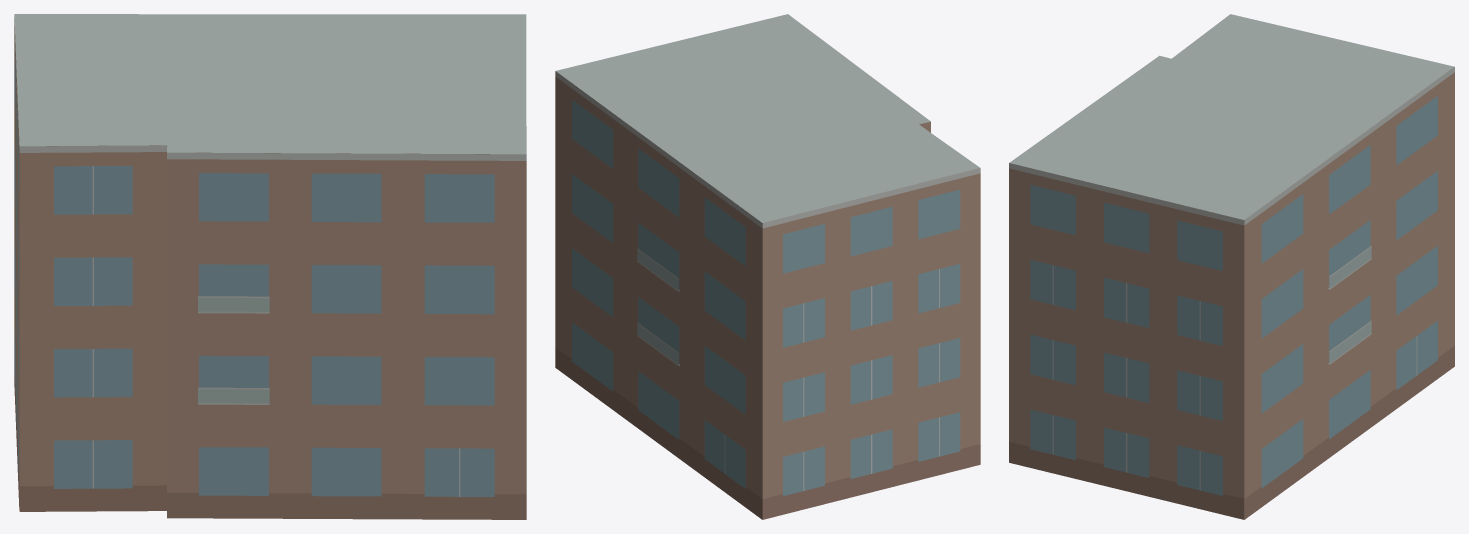
The model's file is survey-upis-32709497.glb.
3 views of the same model, side by side, from view 1: azimuth 30°, elevation 25°; view 2: azimuth 150°, elevation 25°; view 3: azimuth 270°, elevation 25° (orthographic). The views are drawn at different scales.
Visible parts, largest first — view 1: survey-upis-32709497.tmp; view 2: survey-upis-32709497.tmp; view 3: survey-upis-32709497.tmp.
Part boxes in pixels (x1=…): survey-upis-32709497.tmp: x1=14, y1=14, x2=526, y2=519; survey-upis-32709497.tmp: x1=555, y1=14, x2=980, y2=519; survey-upis-32709497.tmp: x1=1009, y1=14, x2=1454, y2=519.
Size of the model in its own units: 19.77 by 13.4 by 18.07.
